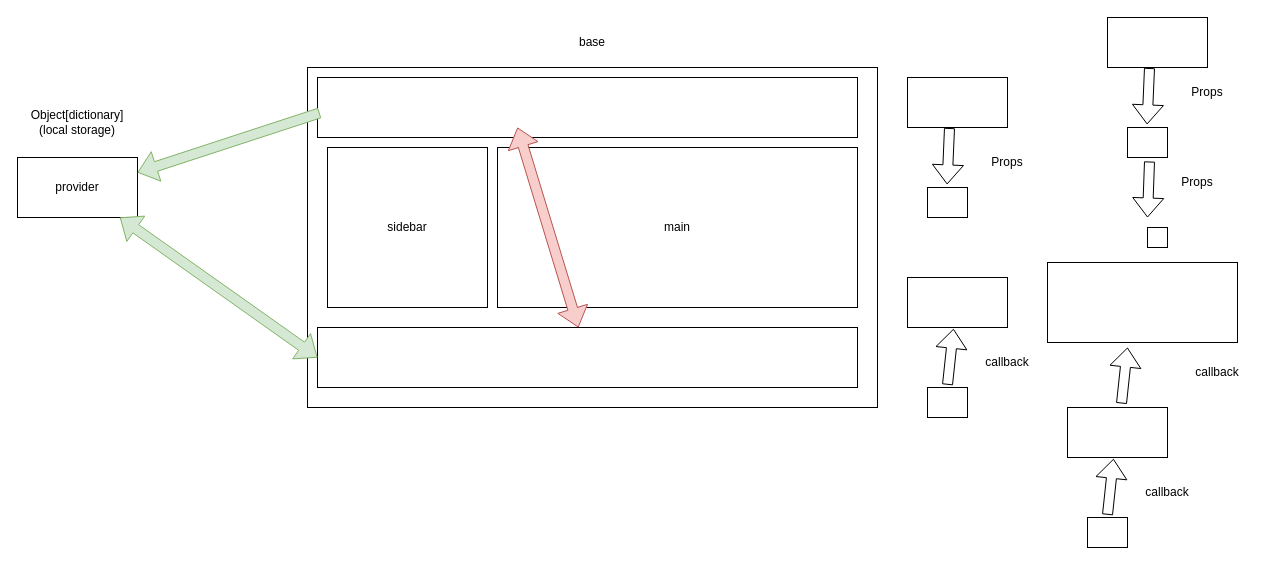
Some shapes in this 1265 by 565 pixel diagram are drawn without their labels. The shapes that lost their labels are listed below. From the top down, each one's centre as x and y in pixels, then its label:
At pixel 587 107: "navbar".
At pixel 587 357: "footer".
